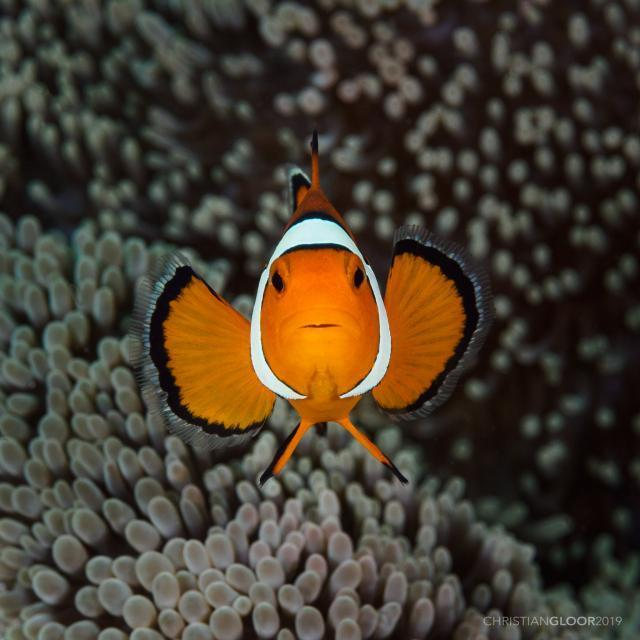ClownFish: (148, 132, 483, 484)
